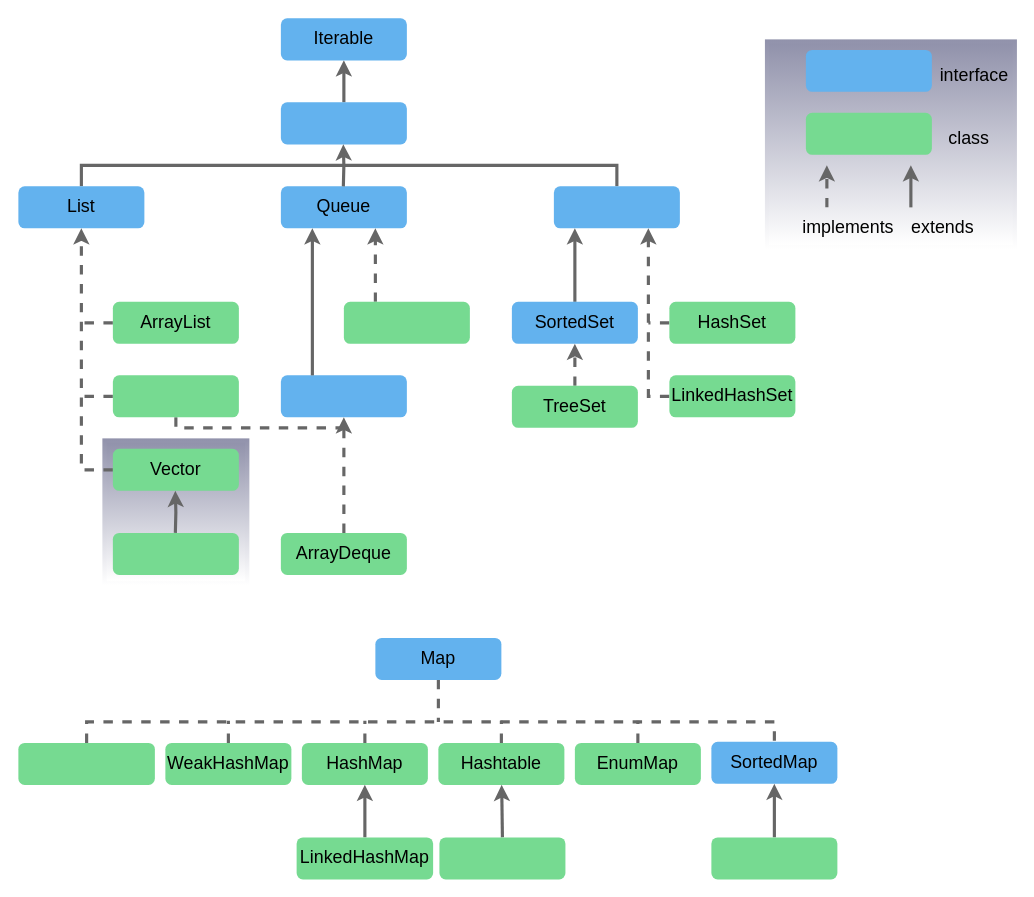
This 1034x897 diagram has some shape labels left out. The box of each missing label's shape, as (x1, y1, x2, y2) in pixels:
Collection: (280, 102, 406, 144)
Deque: (280, 375, 406, 417)
IdentityHashmap: (18, 742, 154, 784)
LinkedList: (112, 375, 238, 417)
PriorityQueue: (343, 301, 469, 343)
Properties: (439, 837, 565, 879)
Set: (553, 186, 679, 228)
Stack: (112, 532, 238, 574)
TreeMap: (711, 837, 837, 879)
